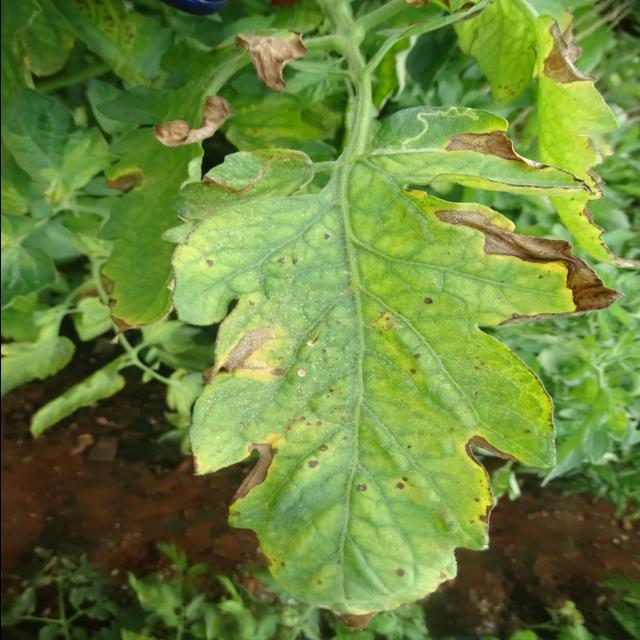Tomato mosaic virus leaf: (170, 204, 624, 634), (426, 120, 598, 196)
